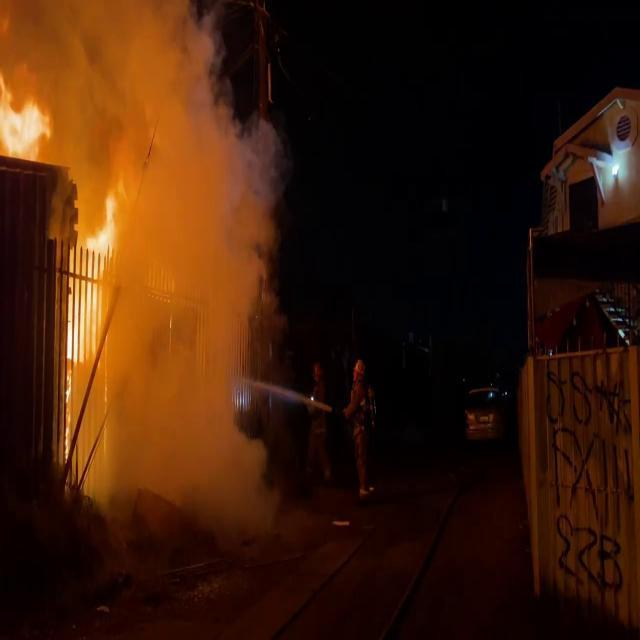Fire: (63, 172, 121, 391), (0, 55, 53, 165)
Smoke: (60, 1, 276, 524)
